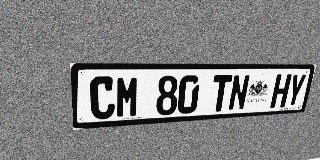0: (177, 75, 200, 114)
8: (156, 75, 179, 116)
C: (90, 76, 115, 120)
H: (270, 74, 292, 108)
M: (116, 76, 140, 118)
N: (227, 75, 250, 111)
T: (209, 75, 233, 112)
Y: (285, 74, 307, 107)
